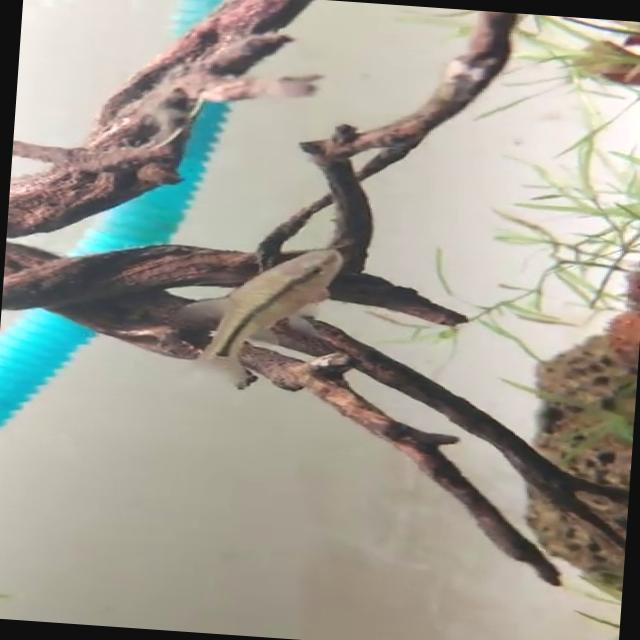Cakil Baligi: (154, 235, 343, 398)
